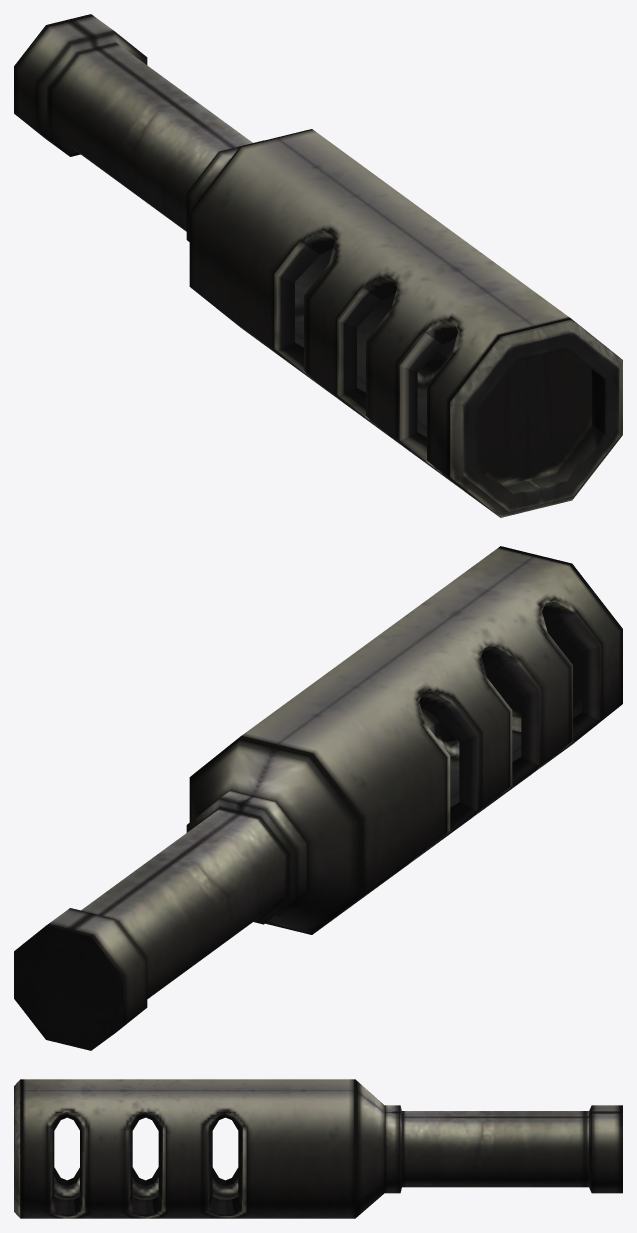
Rendered from SniperRifle_Warfare_Muzzle_3.FBX.
3 views of the same model, one above another, from view 1: azimuth 30°, elevation 25°; view 2: azimuth 150°, elevation 25°; view 3: azimuth 270°, elevation 25° (orthographic). The views are drawn at different scales.
Visible parts, largest first — view 1: mesh_muzzle; view 2: mesh_muzzle; view 3: mesh_muzzle.
Boxes of the visible parts, x1,y1,x2,y2 form: mesh_muzzle: [14, 14, 622, 517]; mesh_muzzle: [14, 546, 622, 1050]; mesh_muzzle: [14, 1079, 622, 1218].
Size of the model in its own units: 0.0478 by 0.0478 by 0.226.
